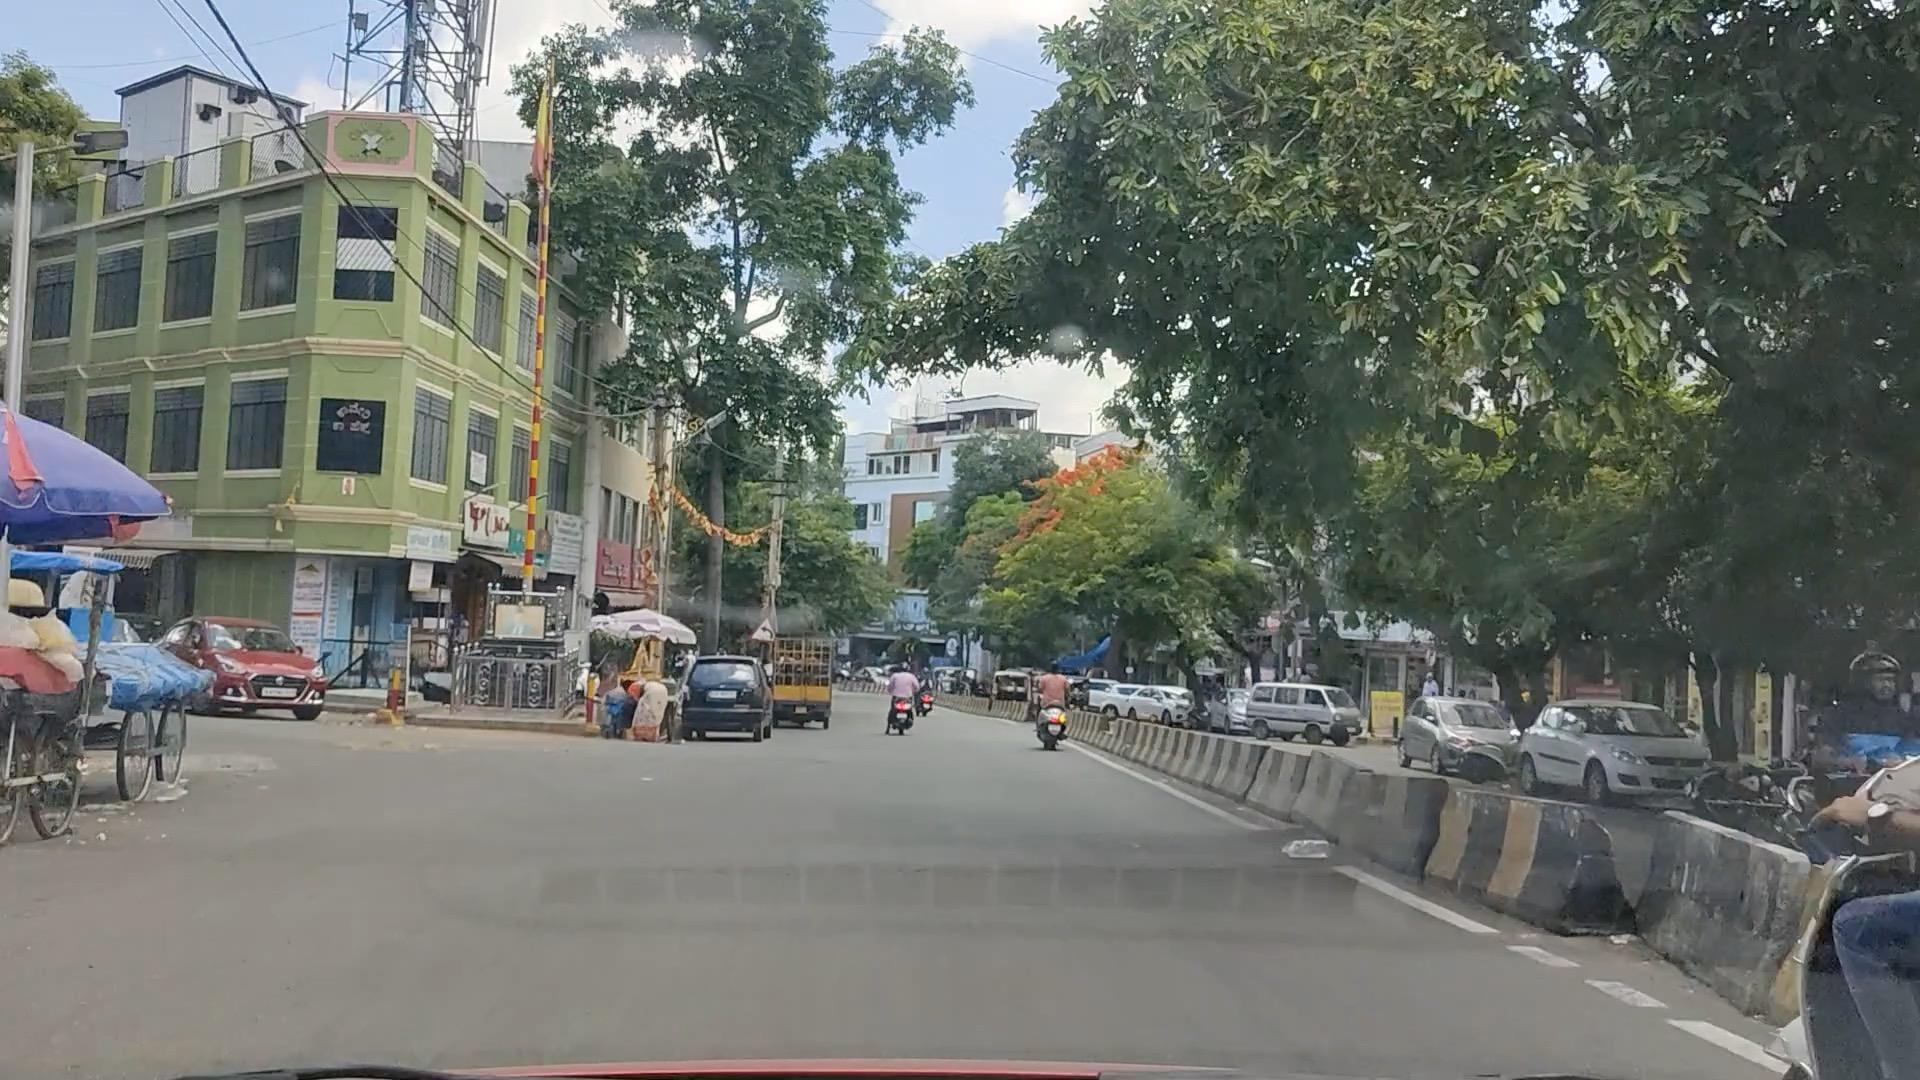LMV: (690, 657, 766, 745)
